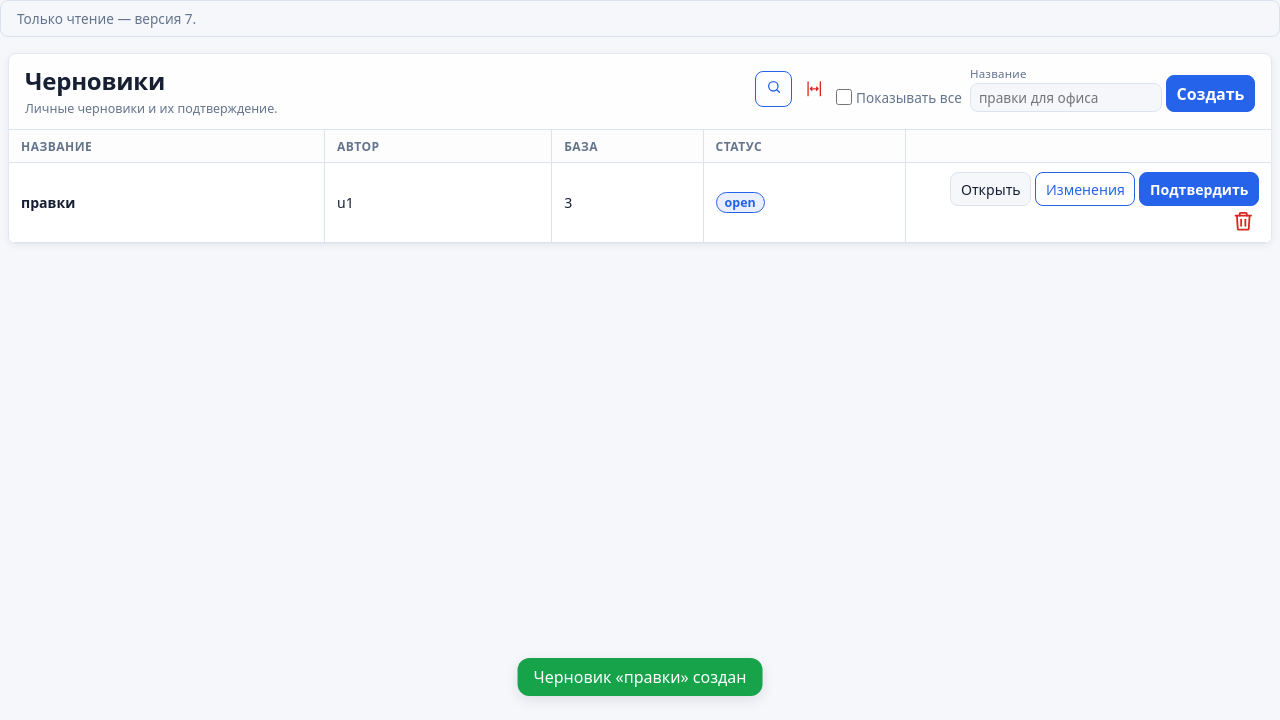
Test: DraftsPage › shows the diff with conflict rows marked
Expected: the text "правки" is shown, x1=21 y1=193 x2=75 y2=212
What coordinates should you click on to do the following:
click the button titled "Изменения черновика правки"
I would click on:
 (1085, 189)
Its box is x1=1035 y1=172 x2=1135 y2=206.
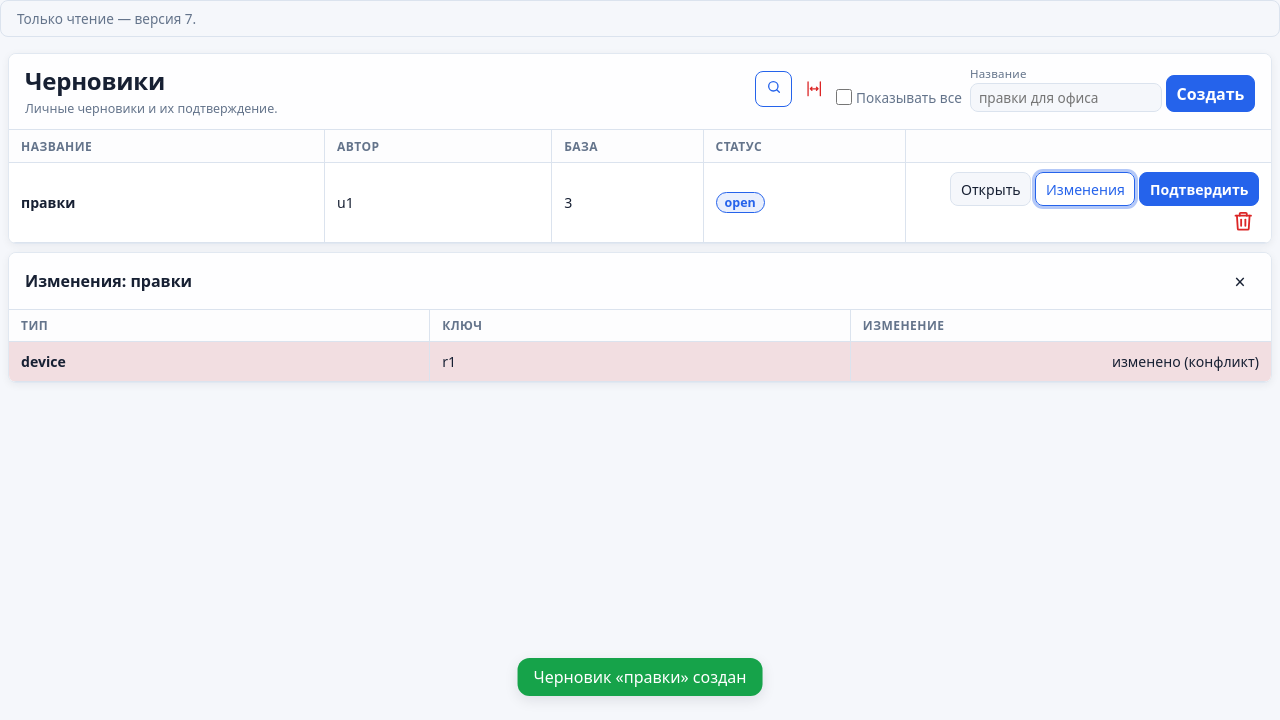
Result: the text "r1" is shown at x1=430 y1=342 x2=850 y2=381
Result: the text "изменено (конфликт)" is shown at x1=850 y1=342 x2=1271 y2=381
